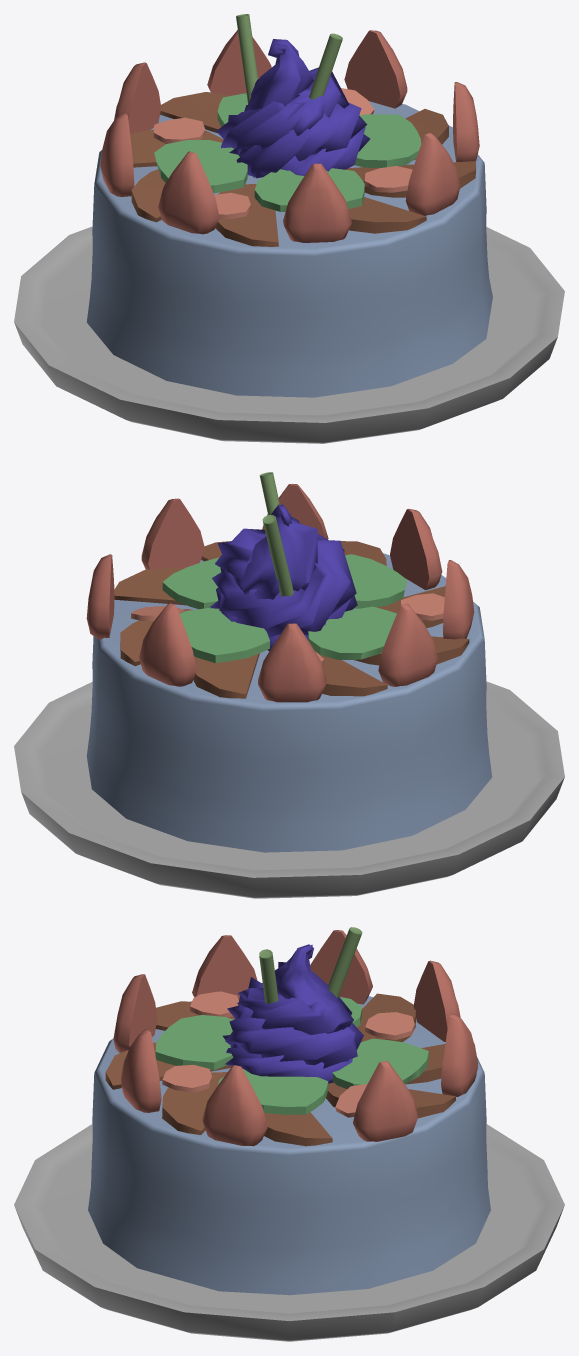
Rendered from cake.fbx.
3 renders of one model, top to bottom at view 1: azimuth 30°, elevation 25°; view 2: azimuth 150°, elevation 25°; view 3: azimuth 270°, elevation 25°, orthographic.
Parts seen in each view (by area): view 1: polySurface26, pCylinder11, cake1, polySurface63, polySurface64, polySurface60, polySurface62, polySurface42, polySurface54, polySurface53, polySurface58, polySurface48 (+15 smaller); view 2: polySurface26, pCylinder11, cake1, polySurface58, polySurface55, polySurface48, polySurface42, polySurface59, polySurface61, polySurface63, polySurface53, polySurface43 (+12 smaller); view 3: polySurface26, pCylinder11, cake1, polySurface60, polySurface61, polySurface53, polySurface55, polySurface54, polySurface64, polySurface62, polySurface58, polySurface59 (+15 smaller).
Boxes of the visible parts, box(x1,y1,x2,y2) form: polySurface26: box(86, 101, 492, 397); pCylinder11: box(14, 226, 564, 443); cake1: box(216, 39, 370, 178); polySurface63: box(283, 163, 351, 242); polySurface64: box(158, 151, 219, 234); polySurface60: box(344, 30, 407, 108); polySurface62: box(405, 132, 460, 215); polySurface42: box(154, 140, 247, 193); polySurface54: box(354, 114, 421, 167); polySurface53: box(254, 168, 364, 211); polySurface58: box(114, 62, 161, 133); polySurface48: box(100, 113, 134, 196); polySurface26: box(86, 553, 492, 852); pCylinder11: box(14, 681, 564, 898); cake1: box(210, 504, 357, 651); polySurface58: box(258, 623, 326, 702); polySurface55: box(179, 608, 269, 663); polySurface48: box(378, 604, 437, 686); polySurface42: box(308, 606, 396, 659); polySurface59: box(139, 603, 196, 686); polySurface61: box(141, 498, 204, 569); polySurface63: box(390, 509, 442, 590); polySurface53: box(345, 554, 407, 608); polySurface43: box(193, 653, 259, 698); polySurface26: box(88, 996, 490, 1295); pCylinder11: box(14, 1124, 564, 1341); cake1: box(223, 944, 363, 1083); polySurface60: box(353, 1061, 418, 1141); polySurface61: box(202, 1065, 267, 1146); polySurface53: box(155, 1015, 233, 1070); polySurface55: box(331, 1038, 428, 1088); polySurface54: box(217, 1069, 328, 1114); polySurface64: box(192, 935, 257, 1000); polySurface62: box(121, 1029, 161, 1112); polySurface58: box(413, 960, 460, 1041); polySurface59: box(441, 1013, 477, 1096).
Bounding box in the file's own units: 839 × 501 × 839.
